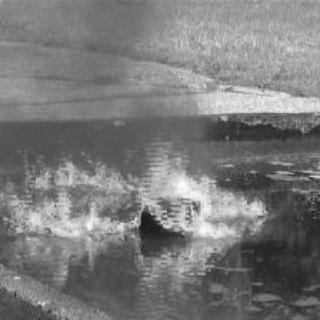Fire: (7, 130, 275, 238)
